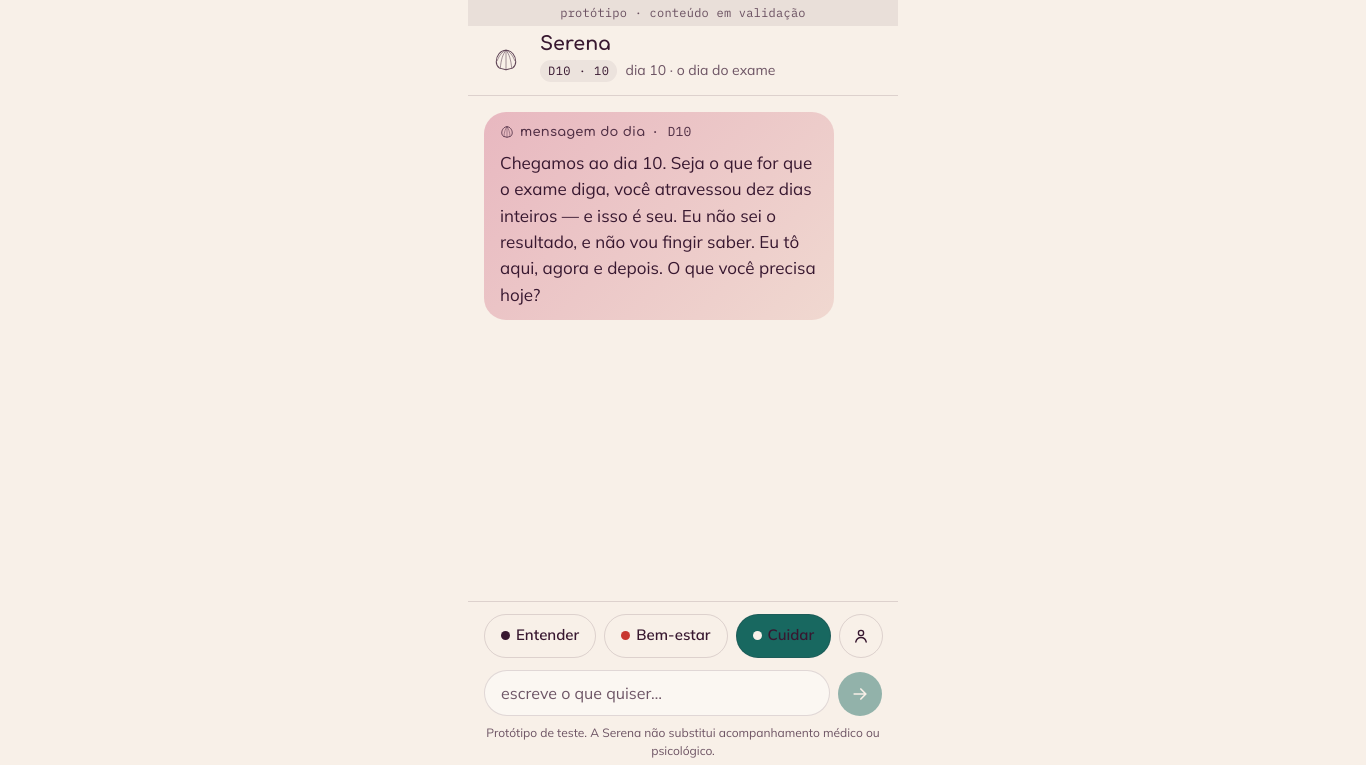
it: Chat (Degrau B) › D10: chip Cuidar em evidência e Acordos em primeiro na trilha
Click the button "Cuidar". click: (783, 636)
box: [736, 614, 831, 658]
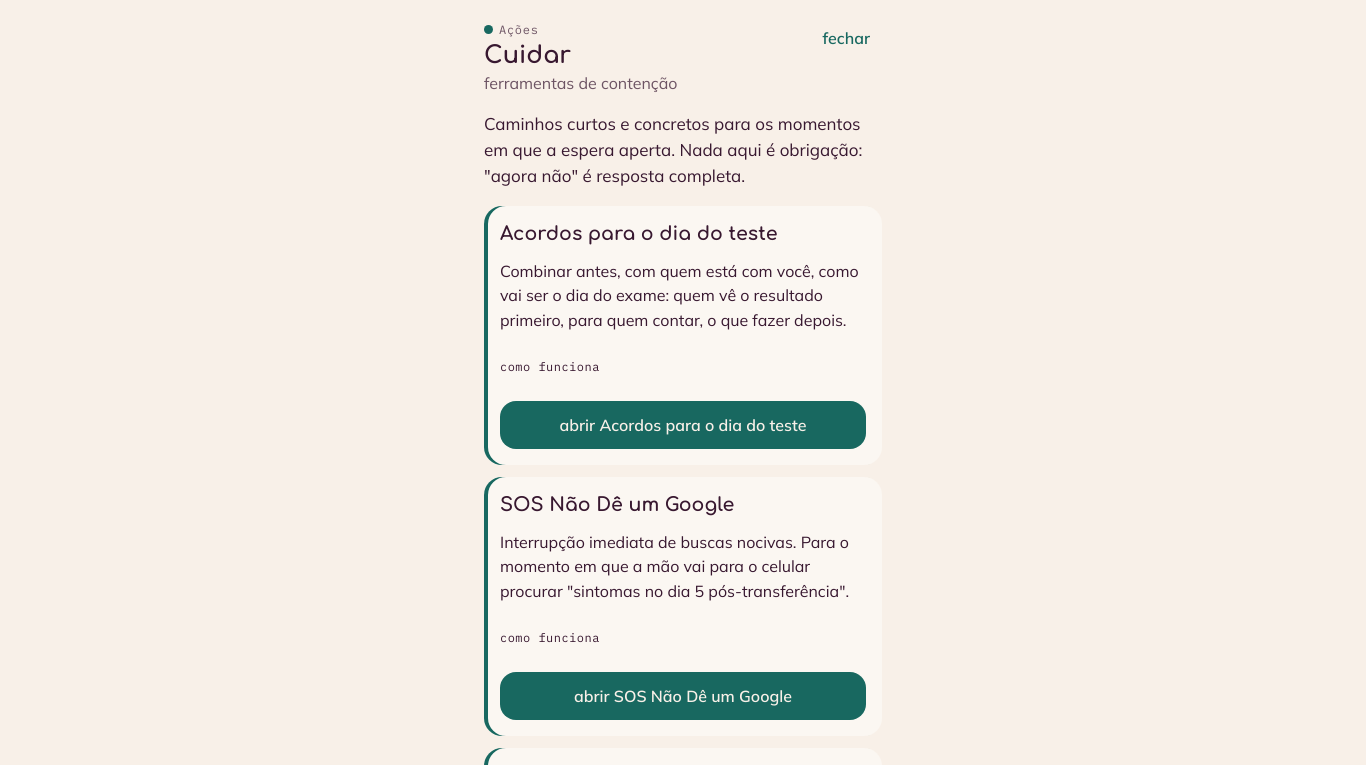
Expected: the heading "Acordos para o dia do teste" is shown, [500, 223, 778, 244]
